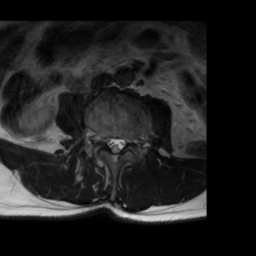CCS_stenosis: (112, 129, 118, 163)
LFS_stenosis: (126, 130, 136, 153)
LLS_normal: (118, 131, 126, 156)
RFS_stenosis: (97, 127, 105, 149)
RLS_normal: (105, 131, 112, 153)
